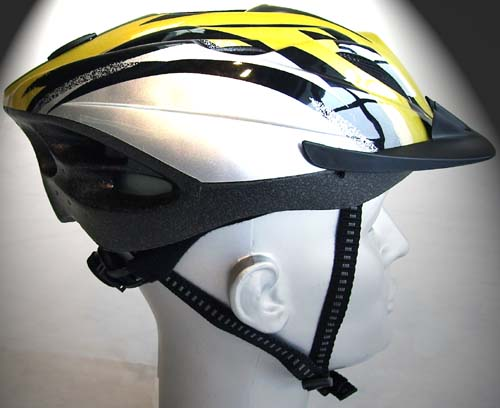helmet: (27, 30, 460, 227)
